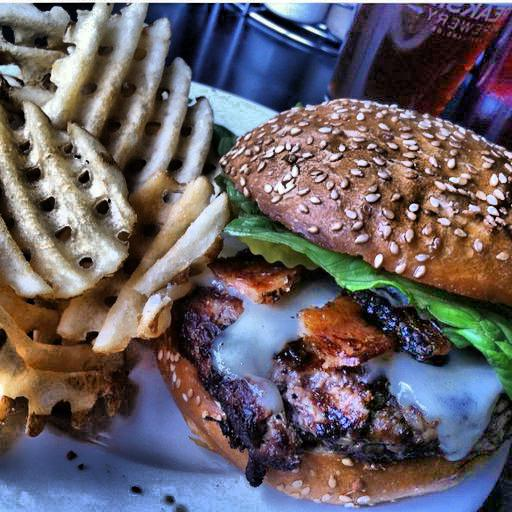burger: (151, 108, 511, 507)
